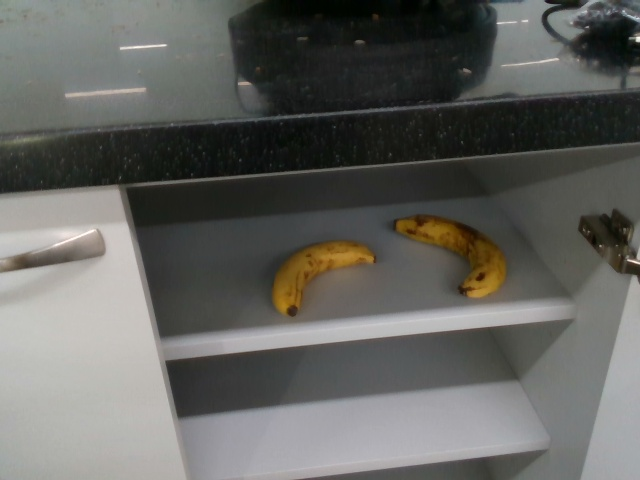banana: (391, 211, 509, 300), (270, 231, 375, 318)
